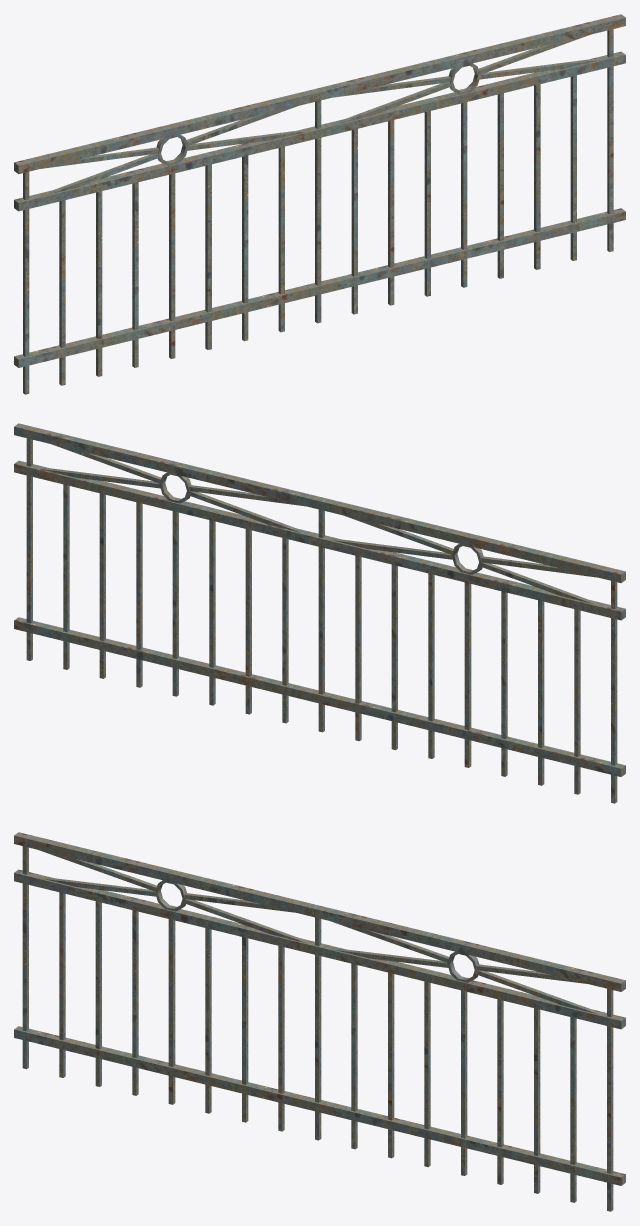
Rendered from fence19.FBX.
3 views of the same model, one above another, from view 1: azimuth 30°, elevation 25°; view 2: azimuth 150°, elevation 25°; view 3: azimuth 330°, elevation 25° (orthographic).
Parts seen in each view (by area): view 1: metal_fence_large_cat_whiskers; view 2: metal_fence_large_cat_whiskers; view 3: metal_fence_large_cat_whiskers.
Part boxes in pixels (x1,y1,x2,y2): metal_fence_large_cat_whiskers: (14,14,625,394); metal_fence_large_cat_whiskers: (14,423,625,803); metal_fence_large_cat_whiskers: (14,832,625,1211).
Size of the model in its own units: 476 by 173 by 6.31.
